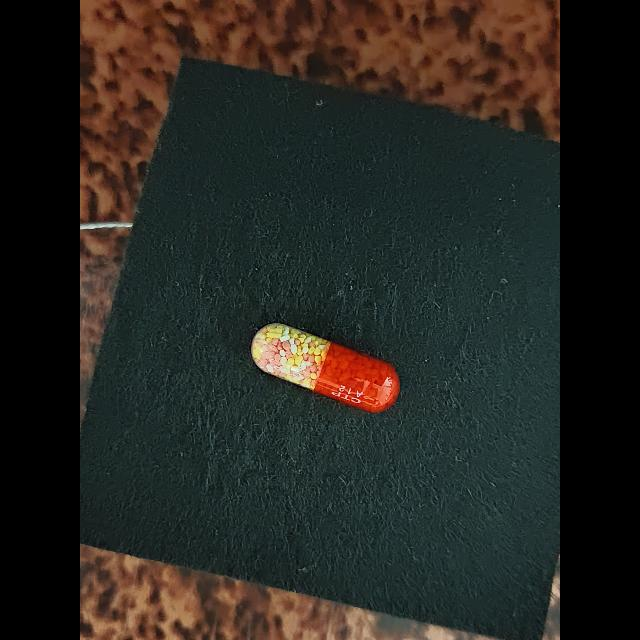Intact Capsule: (251, 323, 400, 413)
